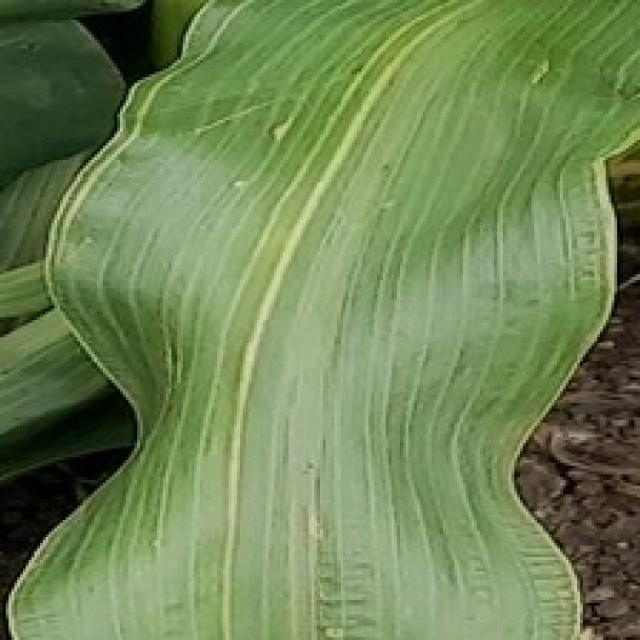Corn: (0, 0, 637, 637), (0, 14, 129, 203)
